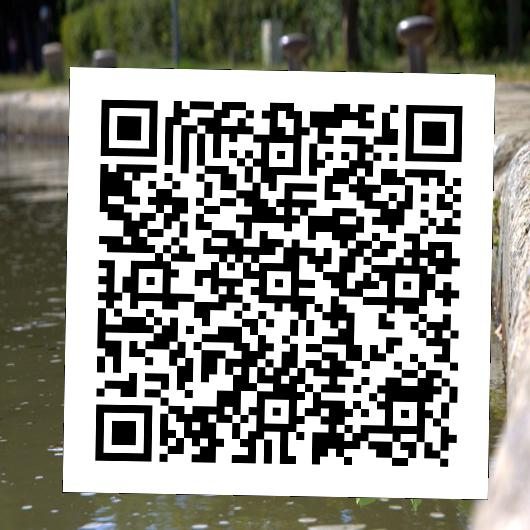qr_code: (62, 66, 495, 500)
